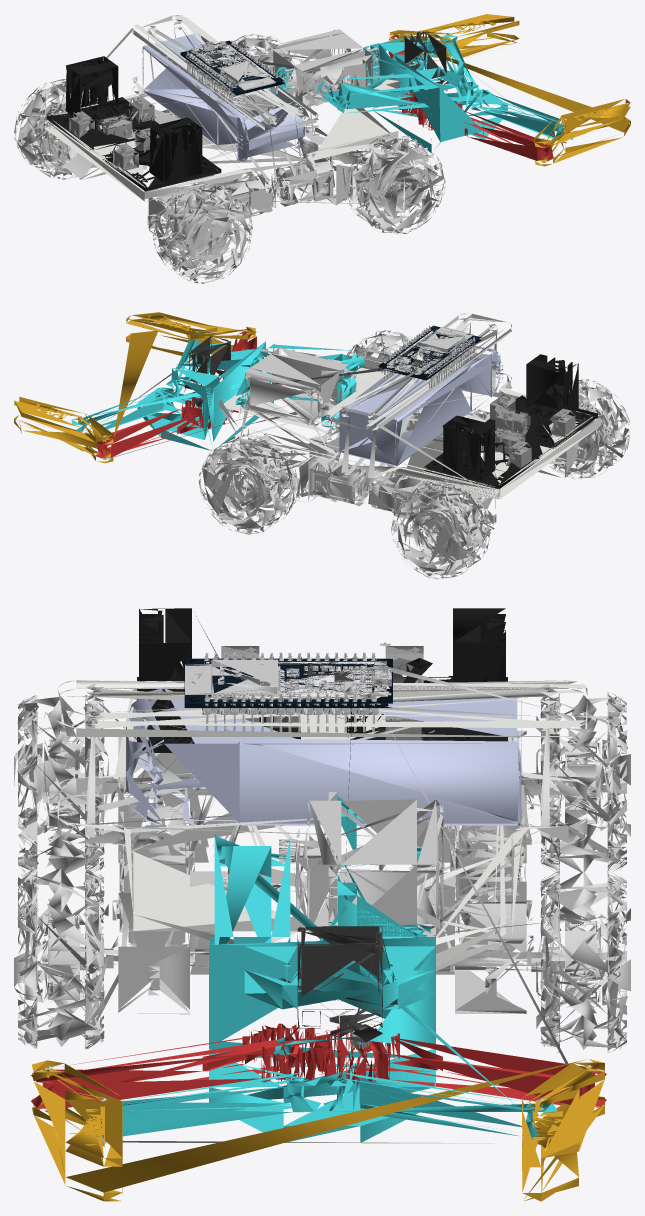
File: transporter.glb
3 renders of one model, top to bottom at view 1: azimuth 30°, elevation 25°; view 2: azimuth 150°, elevation 25°; view 3: azimuth 270°, elevation 25°, orthographic. The views are drawn at different scales.
Parts seen in each view (by area): view 1: transporter; view 2: transporter; view 3: transporter.
Boxes of the visible parts, left/top/right/bottom form: transporter: left=14, top=14, right=630, bottom=283; transporter: left=14, top=312, right=630, bottom=579; transporter: left=14, top=608, right=630, bottom=1201.
Bounding box in the file's own units: 0.2756 × 0.0809 × 0.163.
